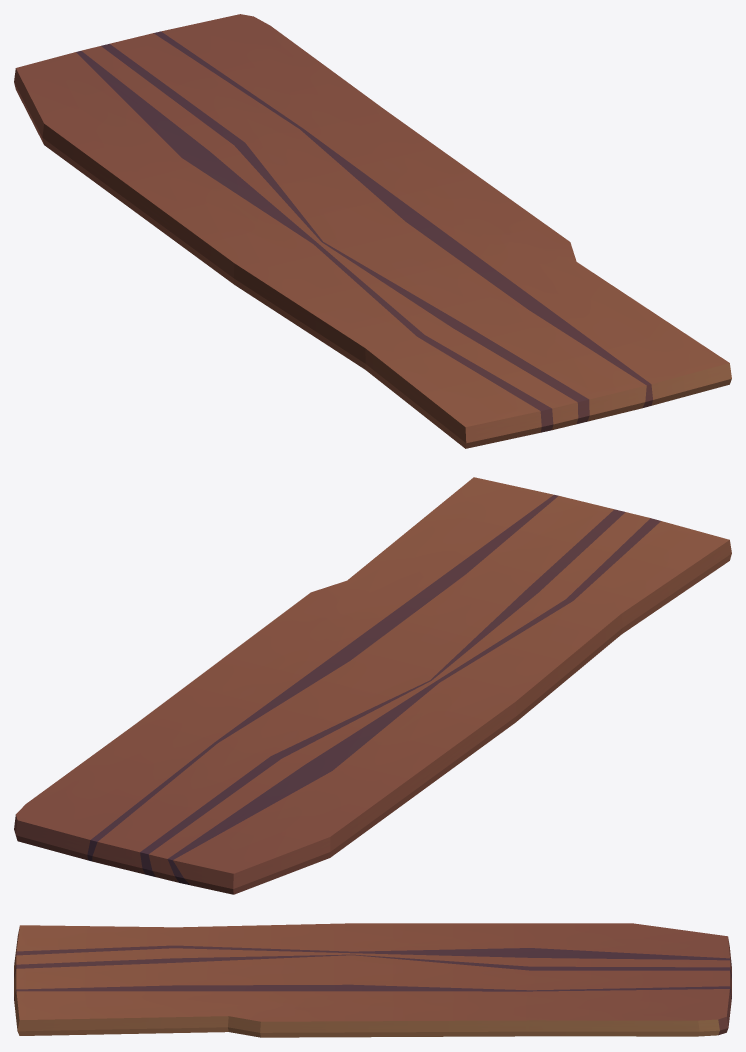
The model's file is Prop_WoodPlank02.fbx.
The picture shows the model from 3 angles, top to bottom: view 1: azimuth 30°, elevation 25°; view 2: azimuth 150°, elevation 25°; view 3: azimuth 270°, elevation 25°; orthographic projection. The views are drawn at different scales.
Visible parts, largest first — view 1: Cube.462; view 2: Cube.462; view 3: Cube.462.
Boxes of the visible parts, x1,y1,x2,y2 form: Cube.462: [14, 14, 731, 448]; Cube.462: [14, 477, 731, 894]; Cube.462: [14, 923, 731, 1037].
Bounding box in the file's own units: 66.26 × 4.98 × 203.
